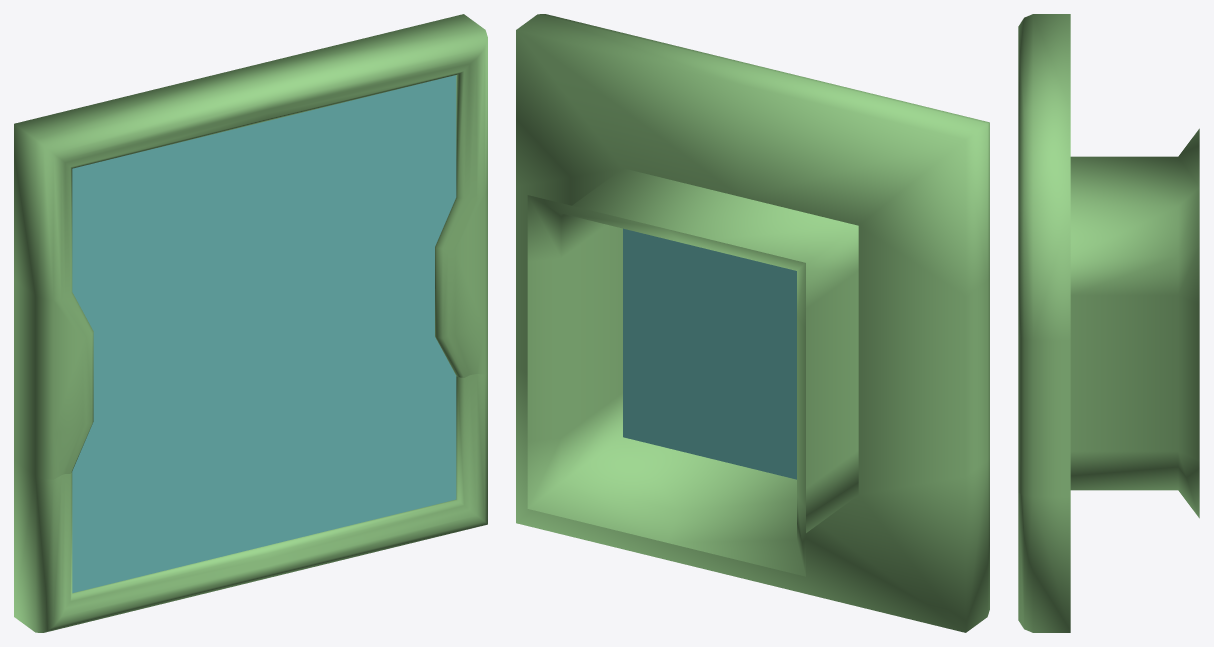
File: CeilingLightSquare.fbx
3 renders of one model, left to right at view 1: azimuth 30°, elevation 25°; view 2: azimuth 150°, elevation 25°; view 3: azimuth 270°, elevation 25°, orthographic. The views are drawn at different scales.
Parts seen in each view (by area): view 1: CeilingLightSquare; view 2: CeilingLightSquare; view 3: CeilingLightSquare.
Part boxes in pixels (box(x1,y1,x2,y2)): CeilingLightSquare: box(14, 14, 487, 632); CeilingLightSquare: box(516, 14, 989, 632); CeilingLightSquare: box(1018, 14, 1199, 632).
Size of the model in its own units: 2.1 by 2.2 by 0.8441.
